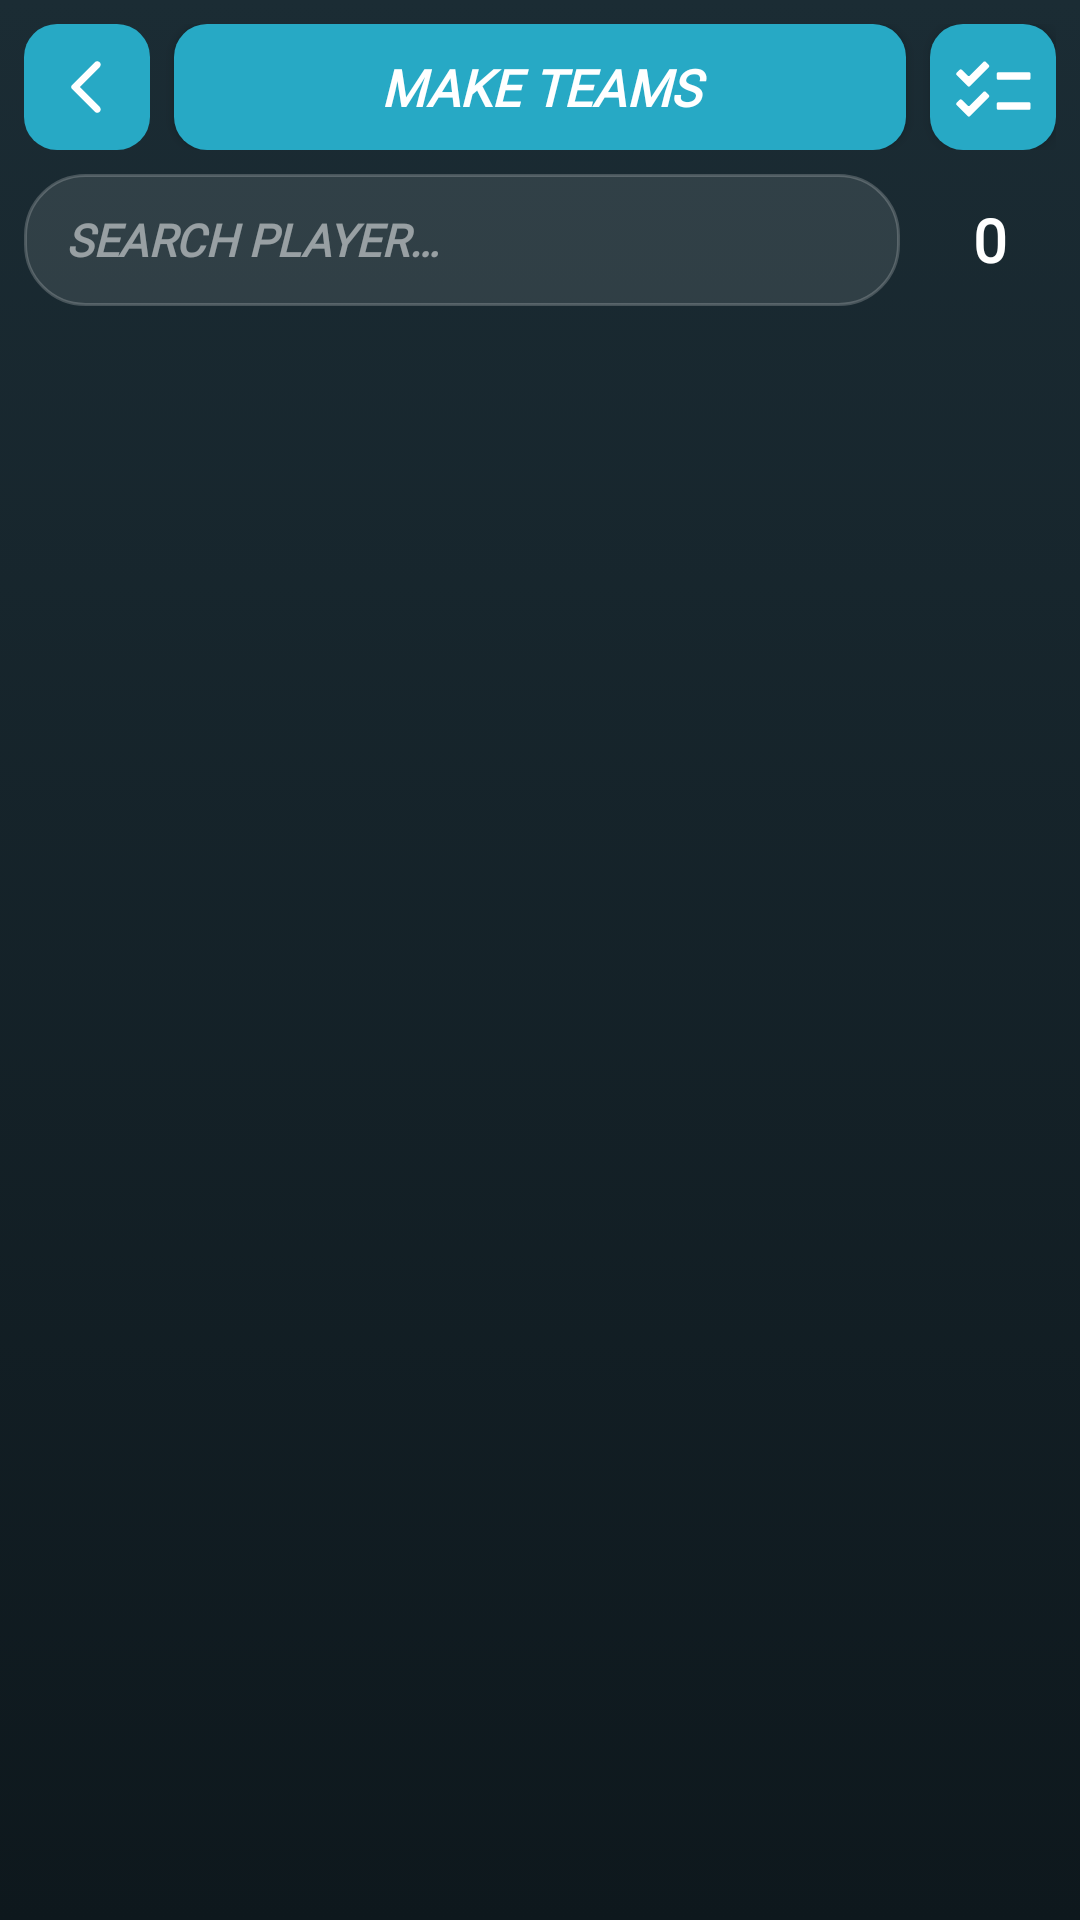

Icon bounding boxes for this 1080w x 1920h phone screenshot, format bbox=[x1, y1, x2, y2]:
BACK: bbox=[24, 24, 150, 150]
select all: bbox=[930, 24, 1056, 150]
